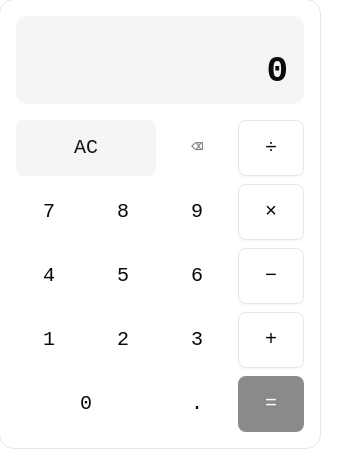
Test: Calculator › only allows one decimal point
The width and height of the screenshot is (338, 466).
Click the button "1".
click(49, 340)  # box [16,312,82,368]
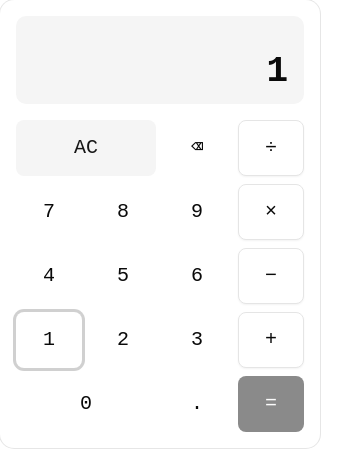
Click the button ".".
click(197, 404)  # box [164,376,230,432]
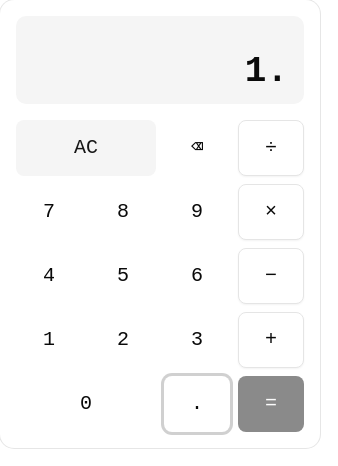
Click the button "2".
click(123, 340)  # box [90,312,156,368]
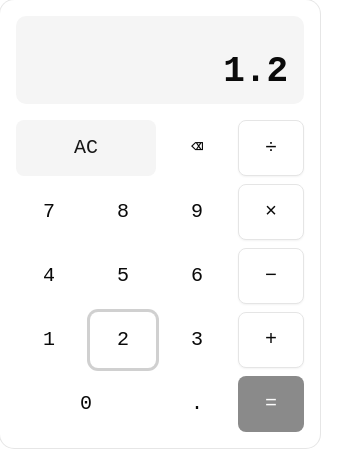
Click the button ".".
click(197, 404)  # box [164,376,230,432]
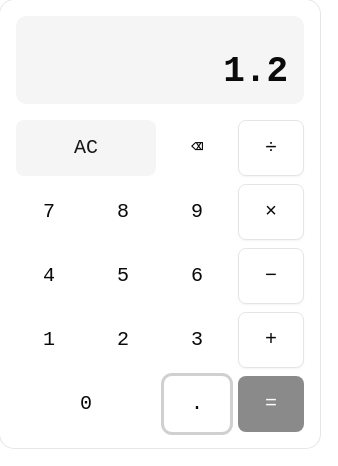
Click the button "3".
click(197, 340)  # box [164,312,230,368]
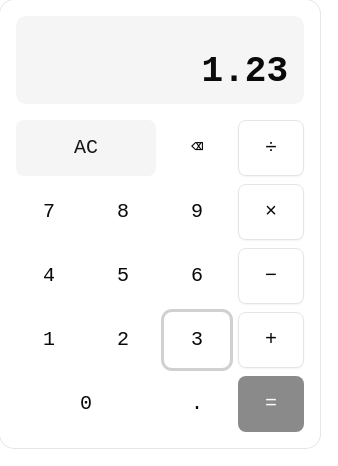
Expected: the text with test id "calculator-display" reads "1.23", [202,51,288,92]
